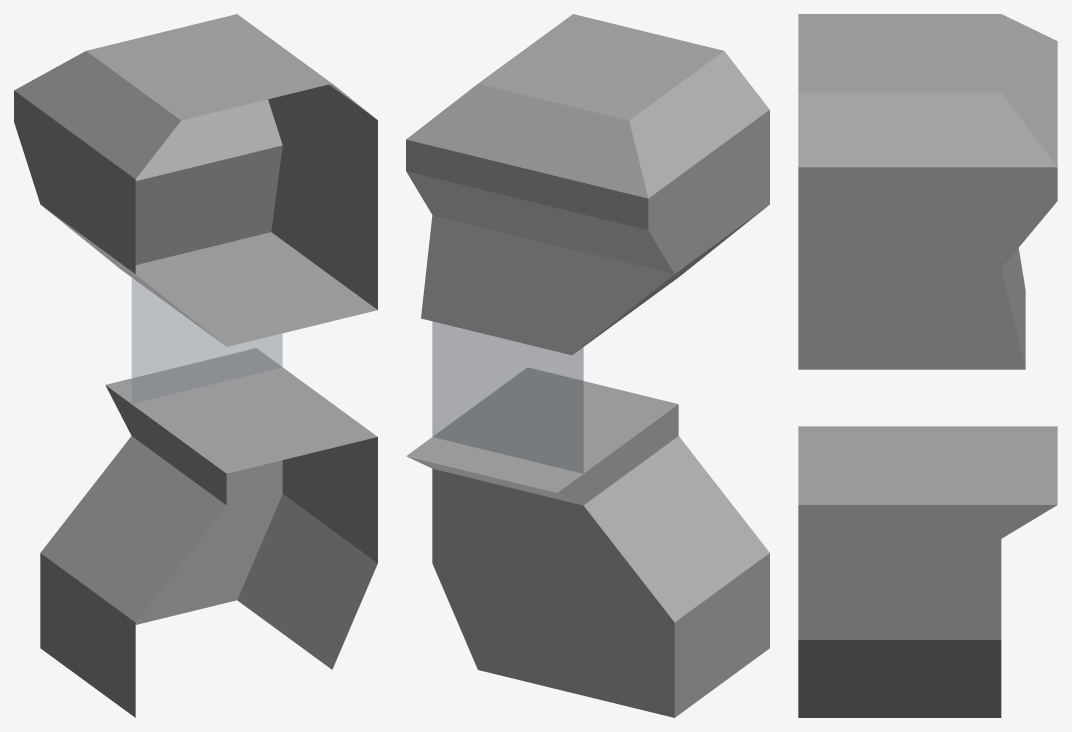
3 renders of one model, left to right at view 1: azimuth 30°, elevation 25°; view 2: azimuth 150°, elevation 25°; view 3: azimuth 270°, elevation 25°, orthographic. The views are drawn at different scales.
Visible parts, largest first — view 1: B3; view 2: B3; view 3: B3.
Boxes of the visible parts, x1,y1,x2,y2 form: B3: [14, 14, 377, 717]; B3: [406, 14, 769, 717]; B3: [798, 14, 1057, 717].
Bounding box in the file's own units: 56.22 × 130 × 48.83.
